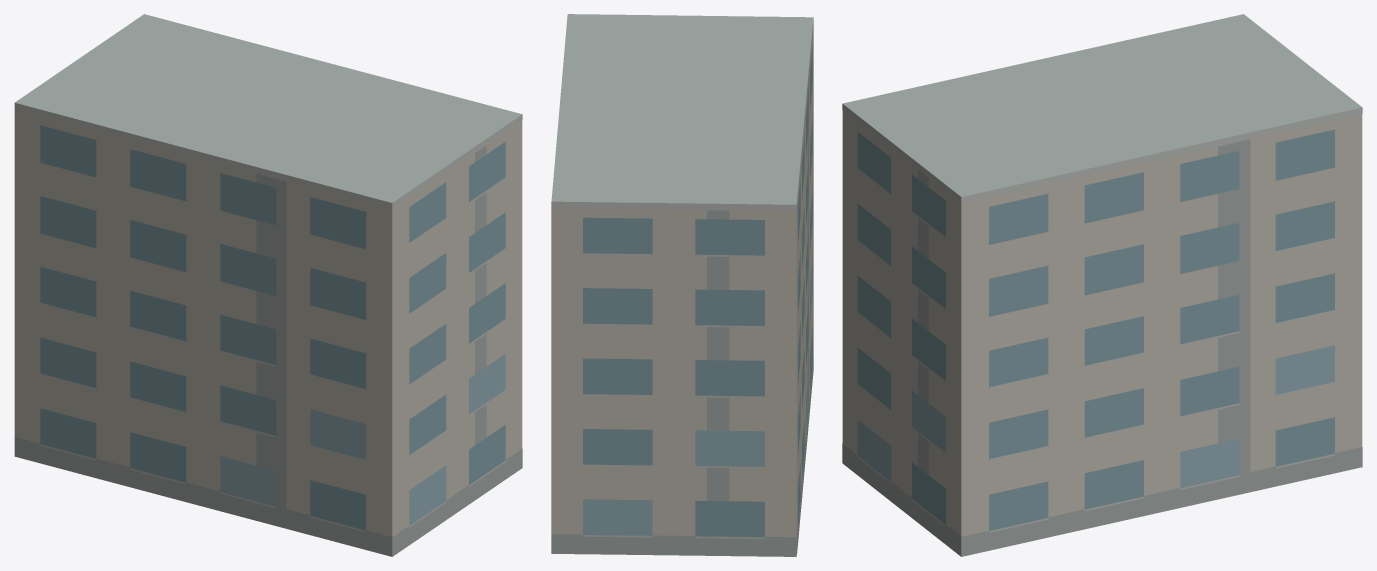
Rendered from survey-upis-32952576.glb.
3 renders of one model, left to right at view 1: azimuth 30°, elevation 25°; view 2: azimuth 150°, elevation 25°; view 3: azimuth 270°, elevation 25°, orthographic. The views are drawn at different scales.
Parts seen in each view (by area): view 1: survey-upis-32952576.tmp; view 2: survey-upis-32952576.tmp; view 3: survey-upis-32952576.tmp.
Boxes of the visible parts, bbox=[...] form: survey-upis-32952576.tmp: bbox=[14, 14, 522, 556]; survey-upis-32952576.tmp: bbox=[551, 14, 813, 556]; survey-upis-32952576.tmp: bbox=[842, 14, 1362, 556].
Size of the model in its own units: 14.31 by 13.1 by 17.17.
